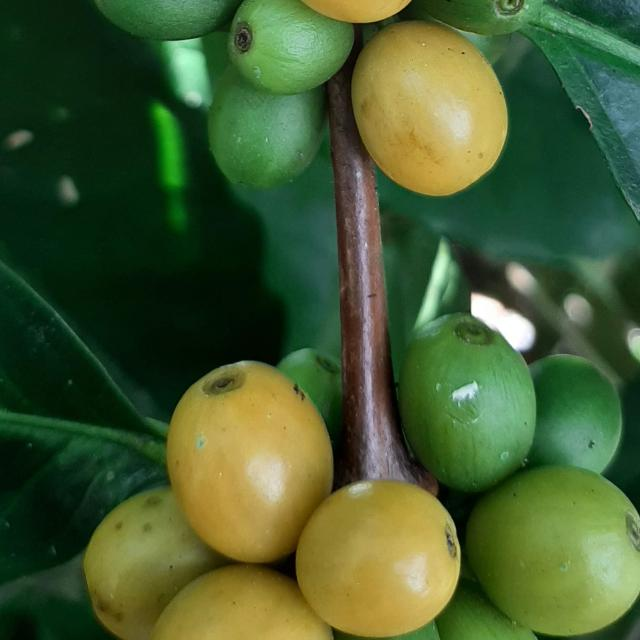green: (467, 467, 640, 638), (399, 313, 536, 493), (83, 488, 227, 640), (208, 64, 325, 189), (228, 0, 354, 94), (529, 355, 623, 474), (277, 349, 342, 451), (436, 581, 538, 640), (94, 0, 242, 39)
red: (167, 362, 333, 564), (352, 20, 508, 196), (296, 481, 461, 638), (148, 565, 333, 640), (302, 0, 412, 22)
